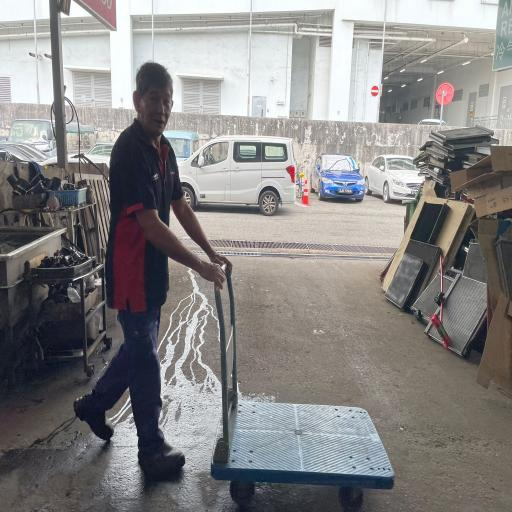person_right: (74, 61, 394, 512)
